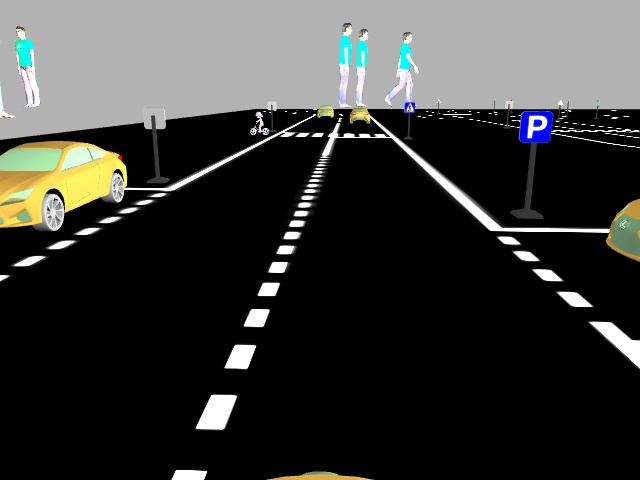Parking: (516, 108, 555, 146)
